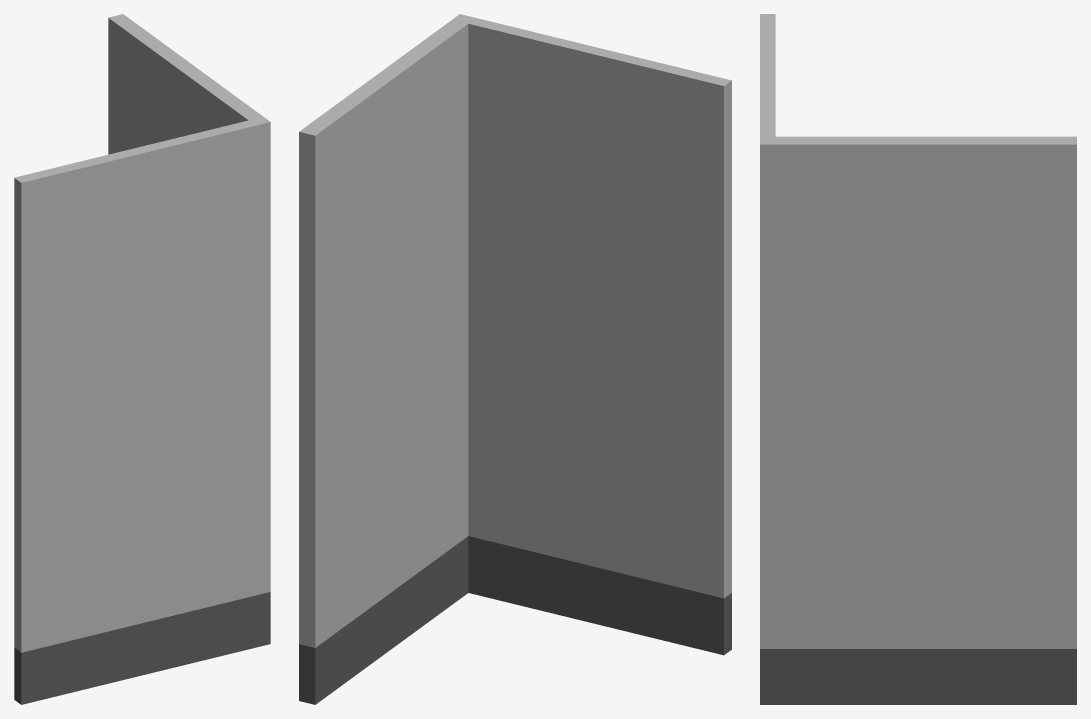
The model's file is Wall_02.fbx.
3 renders of one model, left to right at view 1: azimuth 30°, elevation 25°; view 2: azimuth 150°, elevation 25°; view 3: azimuth 270°, elevation 25°, orthographic. The views are drawn at different scales.
Parts seen in each view (by area): view 1: Wall_Turn; view 2: Wall_Turn; view 3: Wall_Turn.
Part boxes in pixels (x1=…): Wall_Turn: x1=14, y1=14, x2=270, y2=704; Wall_Turn: x1=299, y1=14, x2=731, y2=704; Wall_Turn: x1=760, y1=14, x2=1076, y2=704.
Size of the model in its own units: 100 by 200 by 102.
